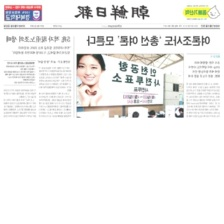news_paper: (0, 0, 224, 120)
